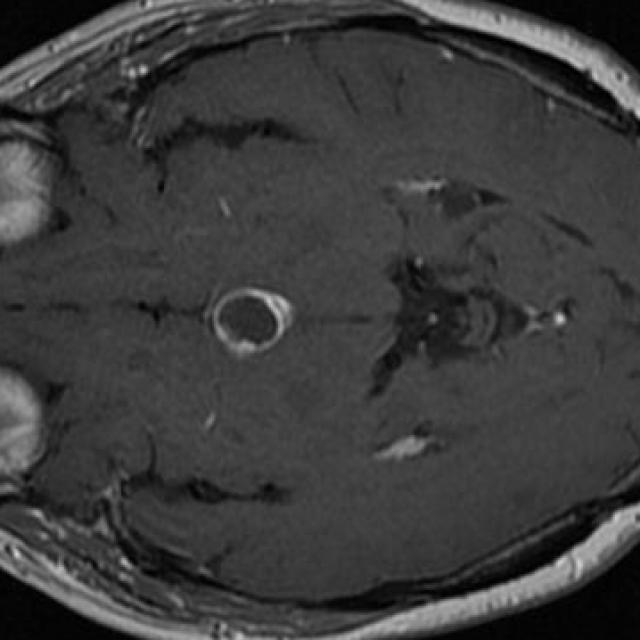pituitary: (210, 287, 294, 364)
